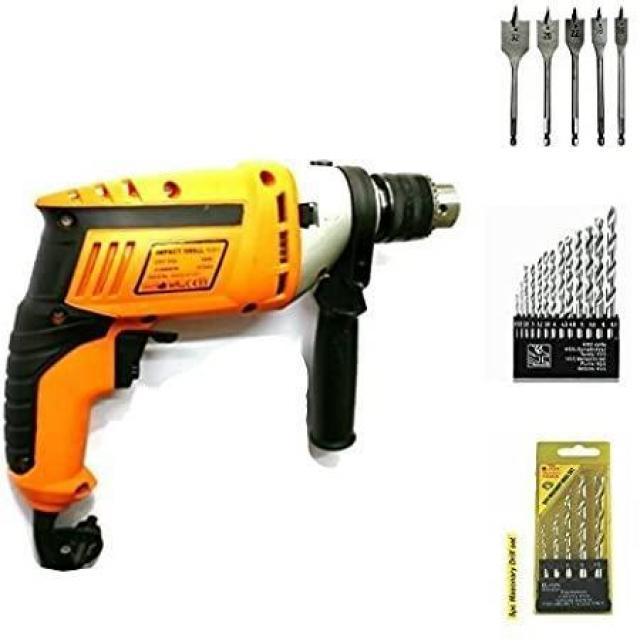drill: (3, 160, 463, 572)
